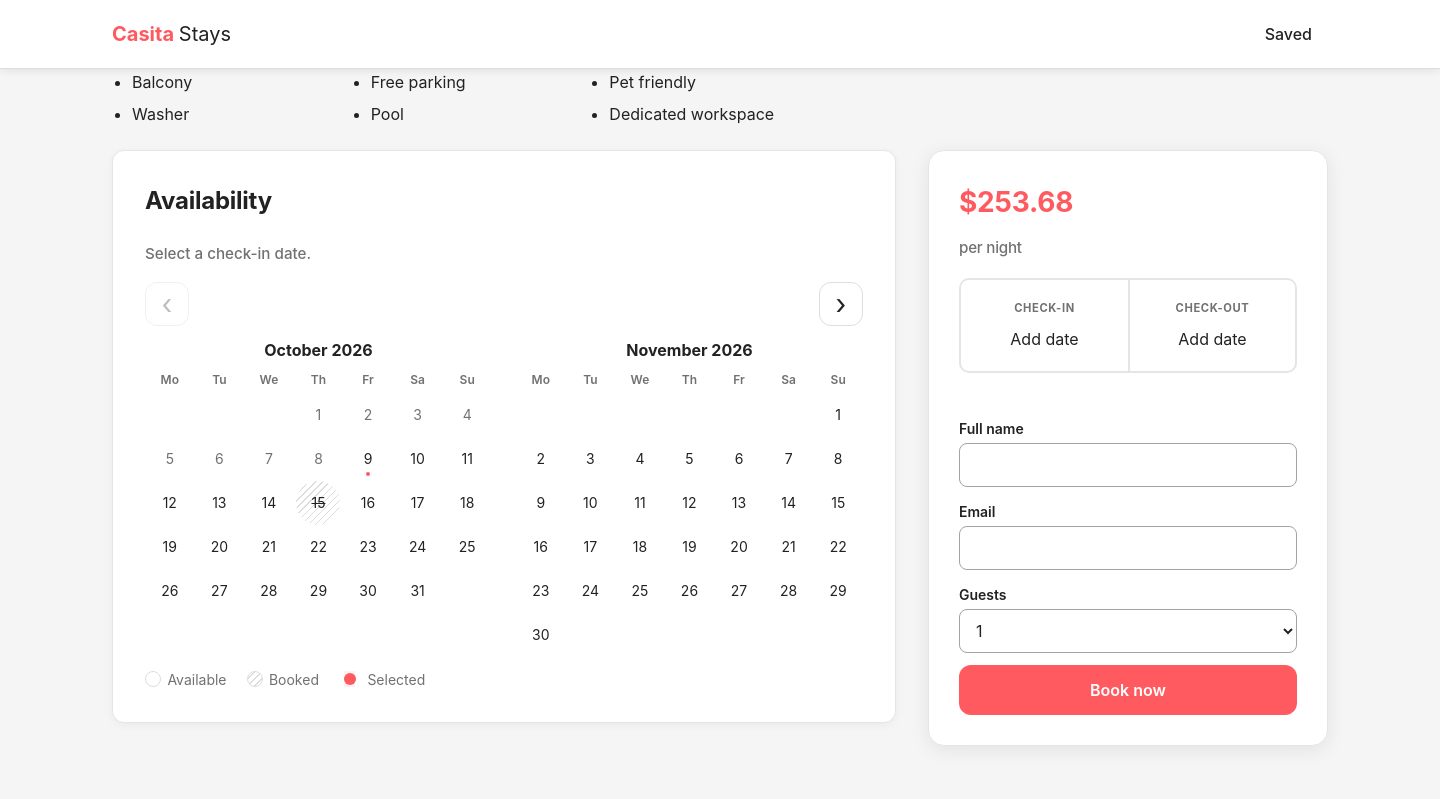
it: booking flow › books a stay and shows the confirmation
The image size is (1440, 799).
(page scrolled)
Expected: the table named "October 2026" is shown, [145,370,492,613]
Click the button "12" below "October 2026".
click(170, 503)  # box [148,481,192,525]
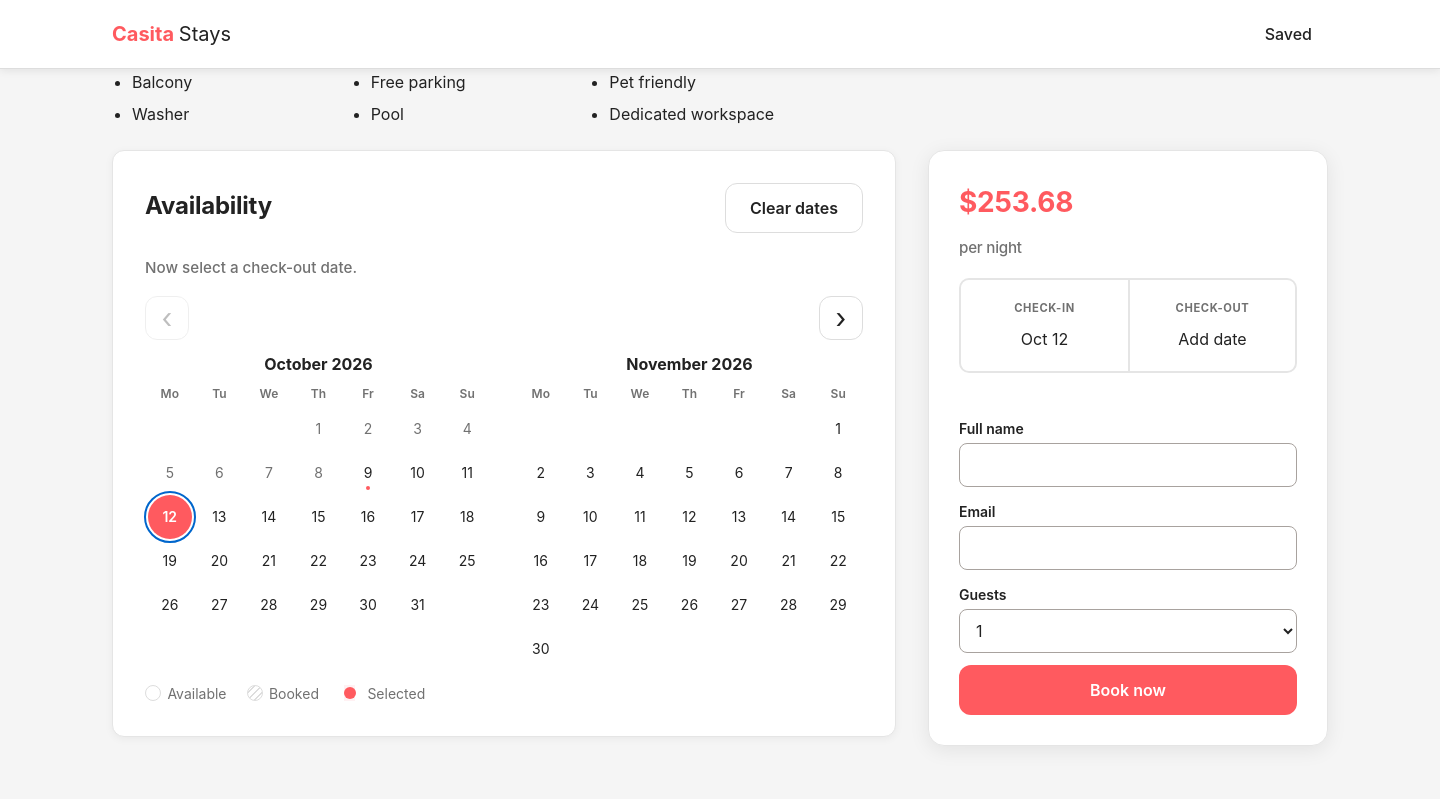
Click the button "14" below "October 2026".
click(269, 517)  # box [247,495,291,539]
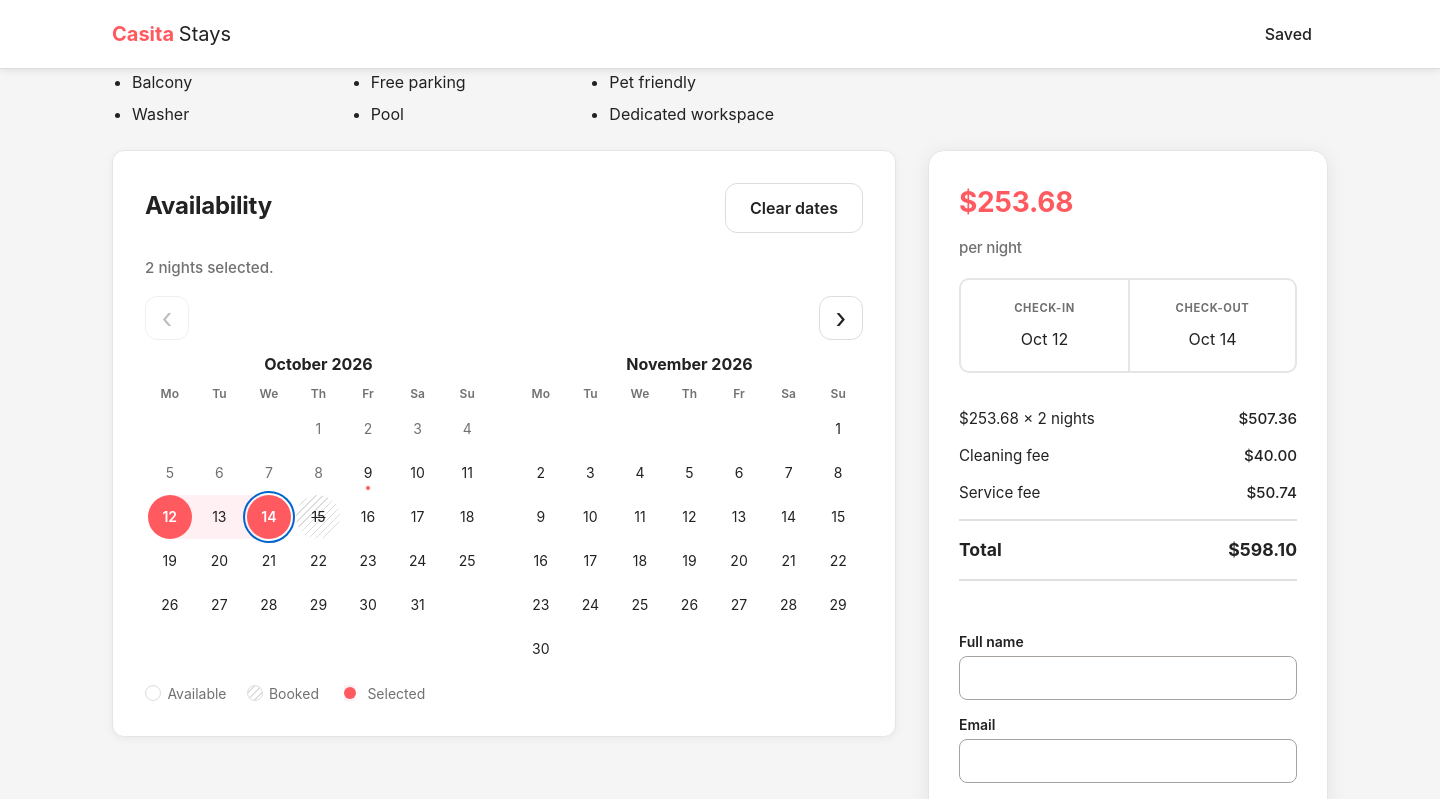
Type "Ana Silva" into the field labelled "Full name".
click(1128, 678); type("Ana Silva")  # box [959,656,1297,700]
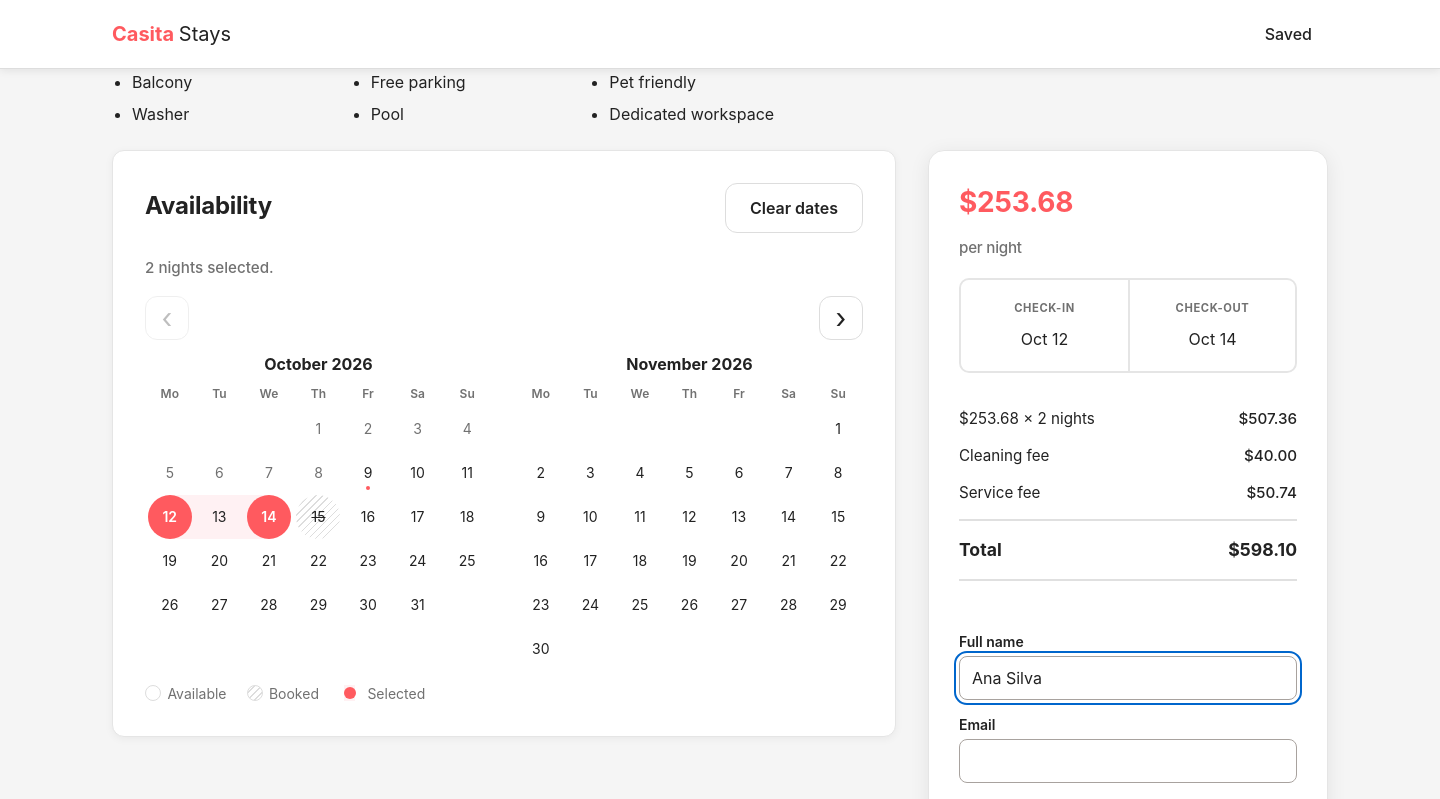
Type "ana@example.com" into the field labelled "Email".
click(1128, 761); type("ana@example.com")  # box [959,739,1297,783]
(page scrolled)
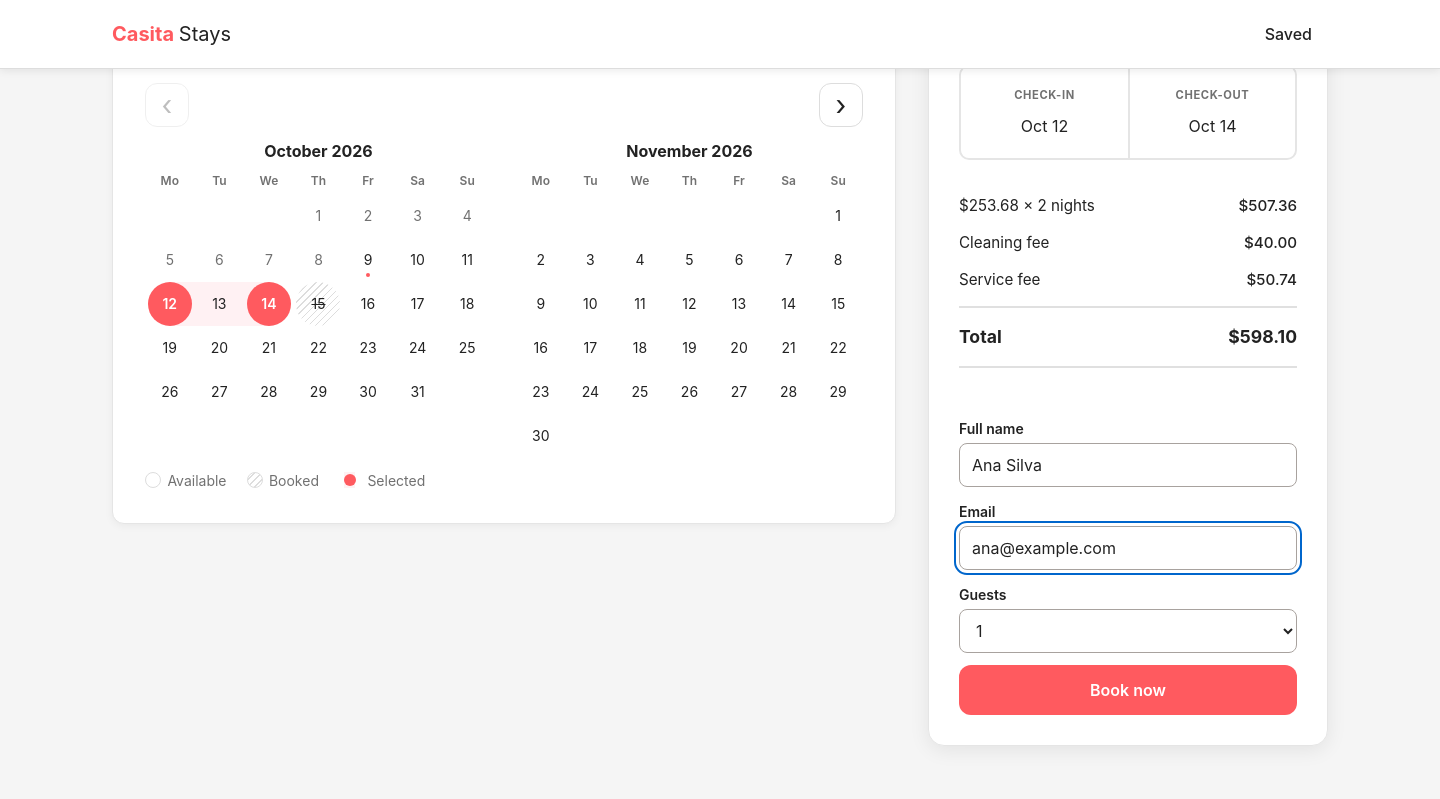
Click the button "Book now".
click(1128, 690)  # box [959,665,1297,715]
(page scrolled)
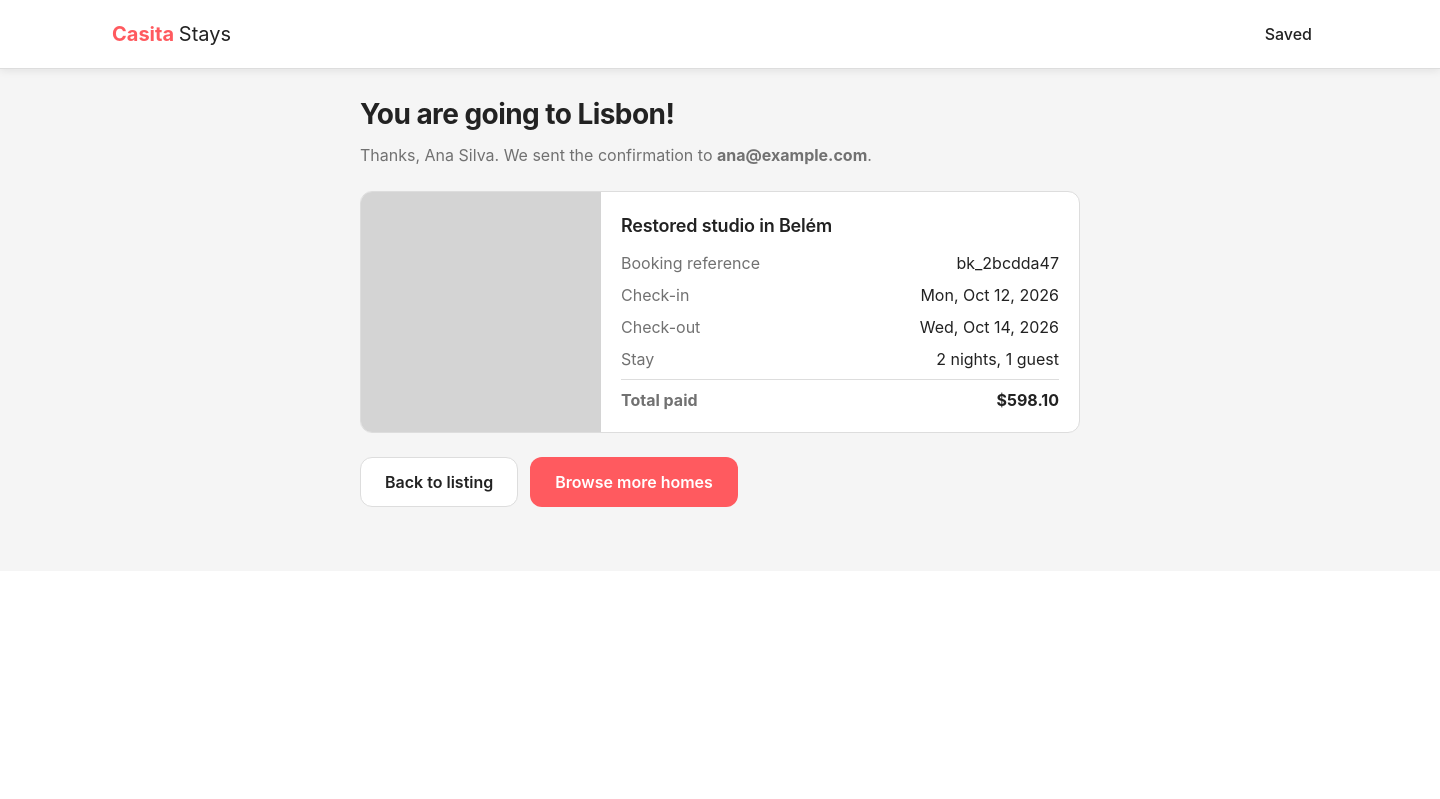
Result: the text "Mon, Oct 12, 2026" is shown at [920,283,1059,307]
Result: the text "2 nights, 1 guest" is shown at [936,347,1059,371]
